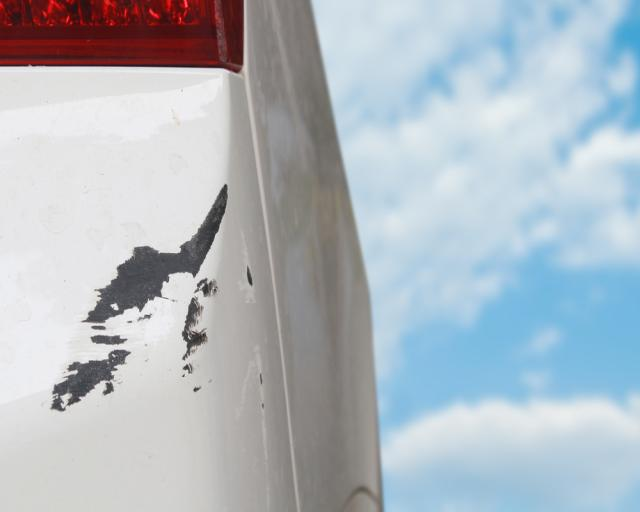scratch: (39, 172, 235, 415), (237, 252, 278, 512)
